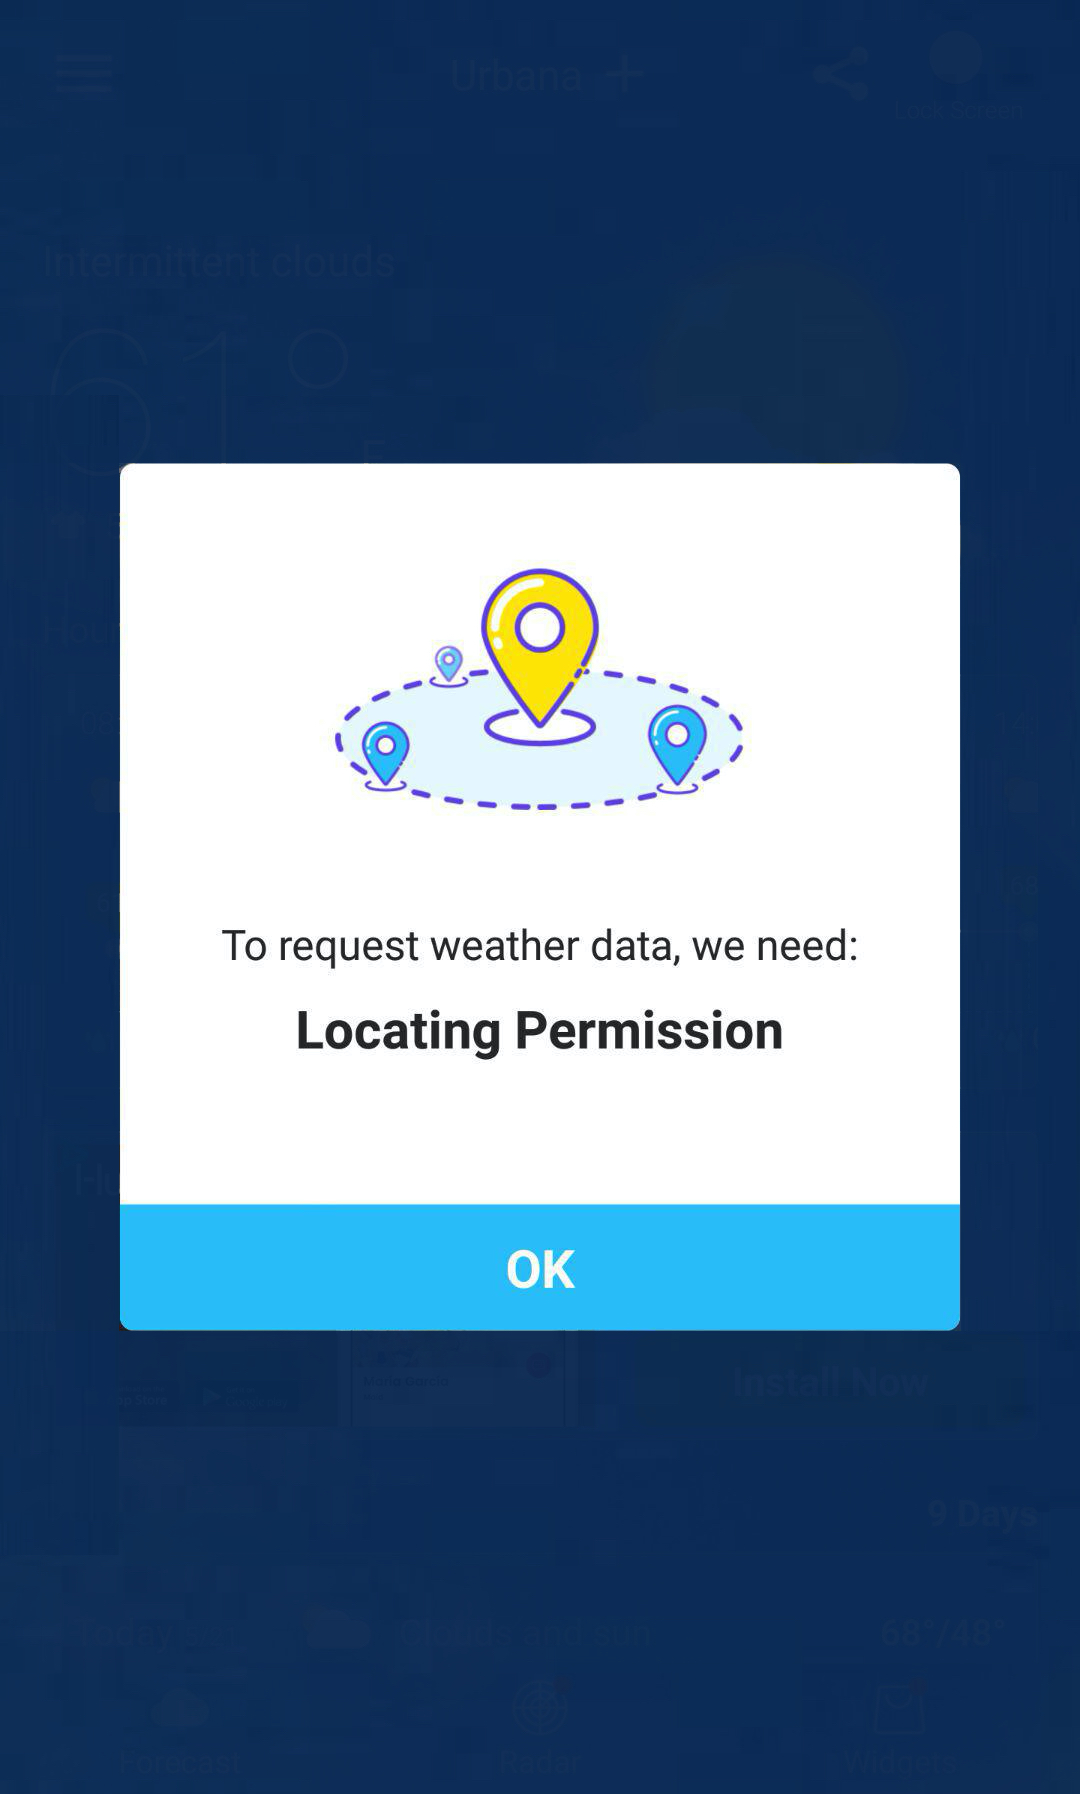Image: (334, 569, 748, 814)
Modal: (120, 464, 960, 1330)
Text: (223, 928, 858, 969), (299, 1008, 781, 1058)
TextButton: (120, 1205, 961, 1330)
